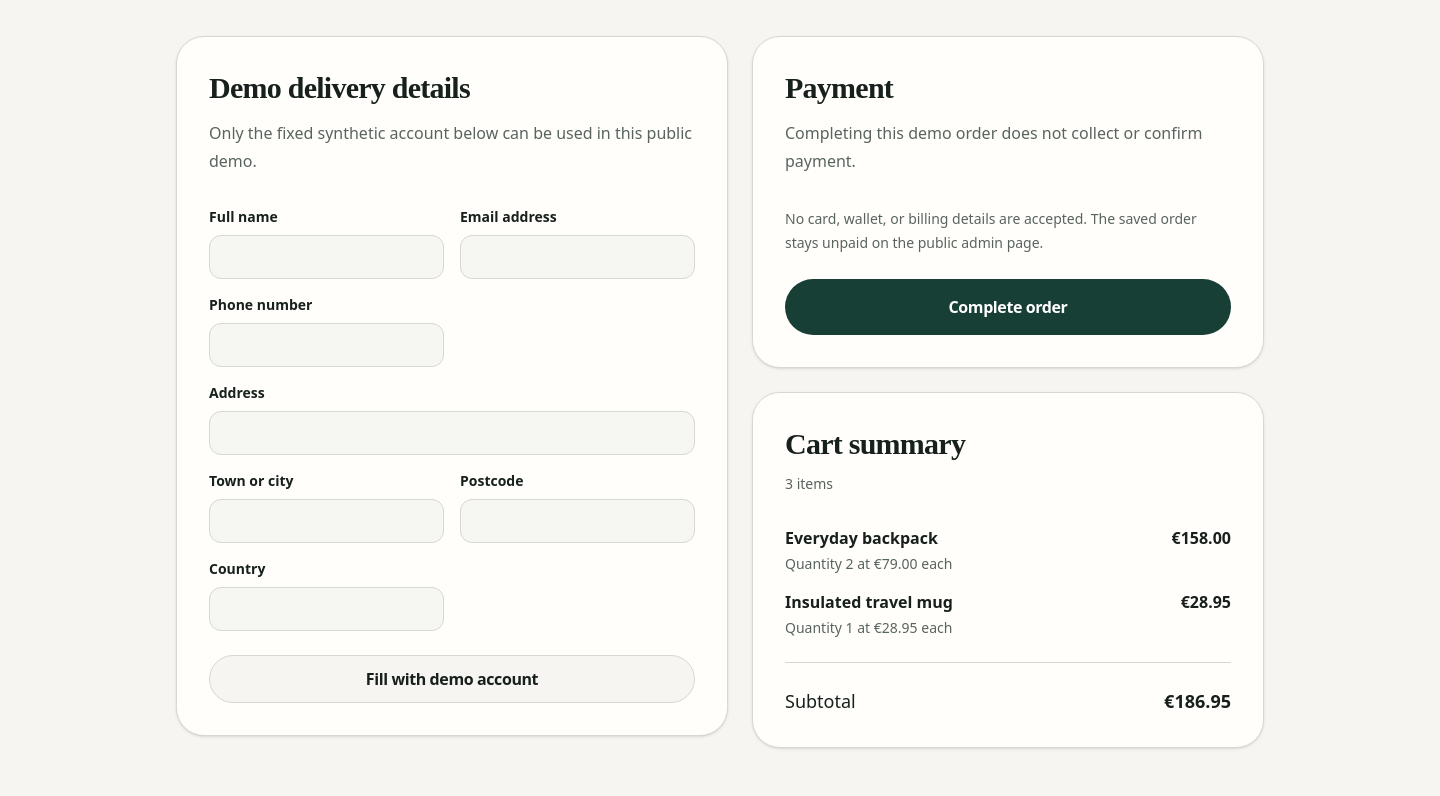
Scenario: CheckoutPage › fills only the fixed synthetic account into labelled read-only fields
(page scrolled)
Check: the heading "Demo delivery details" is shown, box x1=209 y1=71 x2=470 y2=104
Check: the heading "Payment" is shown, box x1=785 y1=71 x2=893 y2=104
Step 1. Click the button "Fill with demo account" → click(452, 678), box x1=209 y1=654 x2=695 y2=702
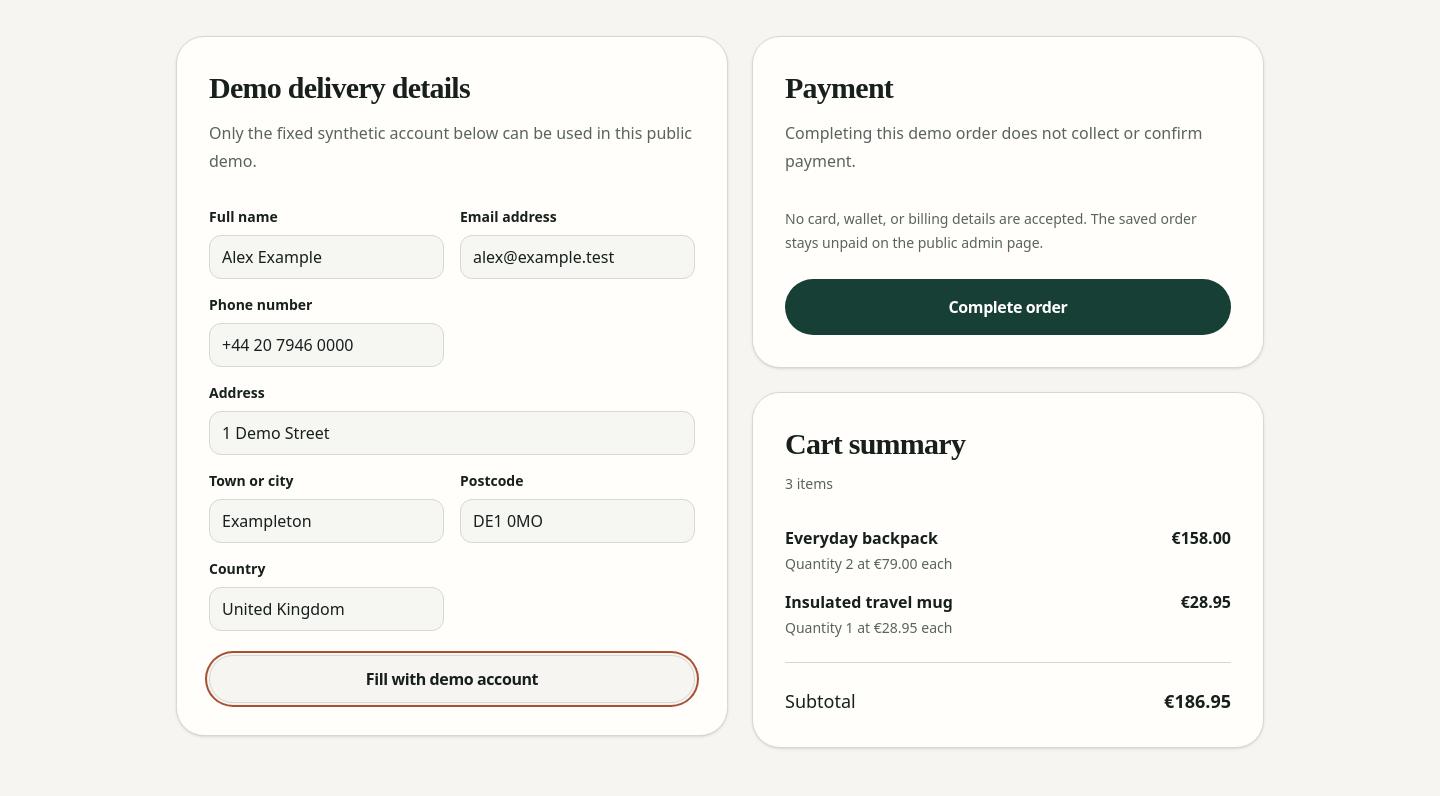
Check: the field labelled "Full name" holds "Alex Example", box x1=209 y1=234 x2=444 y2=278
Check: the field labelled "Email address" holds "alex@example.test", box x1=460 y1=234 x2=695 y2=278
Check: the field labelled "Phone number" holds "+44 20 7946 0000", box x1=209 y1=322 x2=444 y2=366
